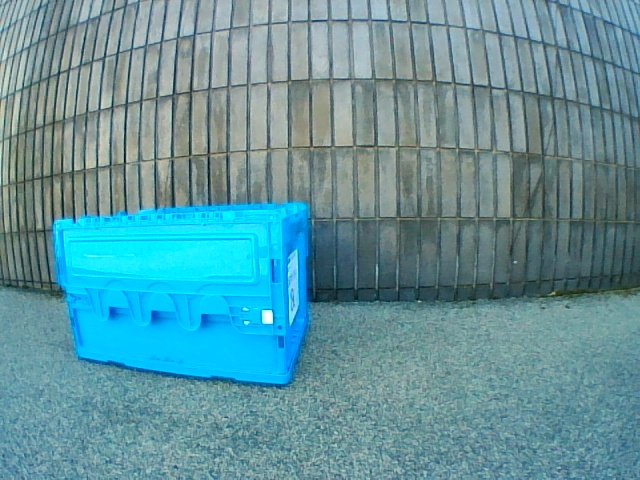blue_box: (53, 202, 308, 385)
tag: (289, 260, 294, 314)
